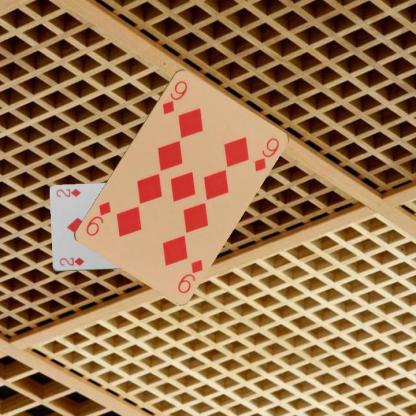2d: (57, 255, 86, 267)
9d: (174, 256, 204, 295), (159, 78, 189, 116)
